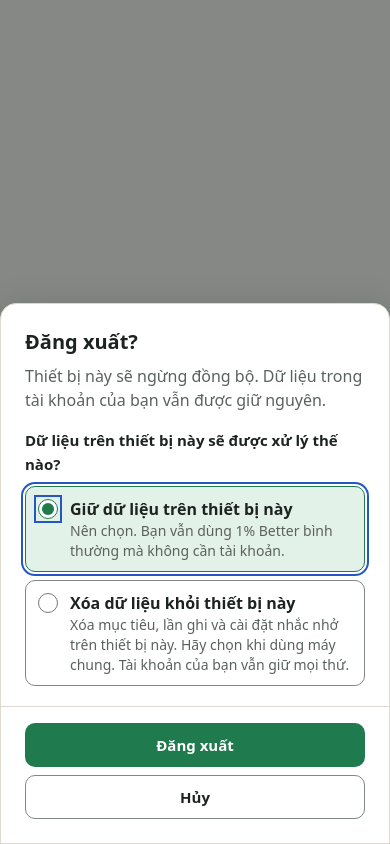
SignOutDialog — D4 (FR-41, M6-AC9, M6-AC11) › vi: no English leaks (Keep and Remove views)
Click the radio button labelled "Xóa dữ liệu khỏi thiết bị này" at [48, 603], box 38,593 -> 58,613
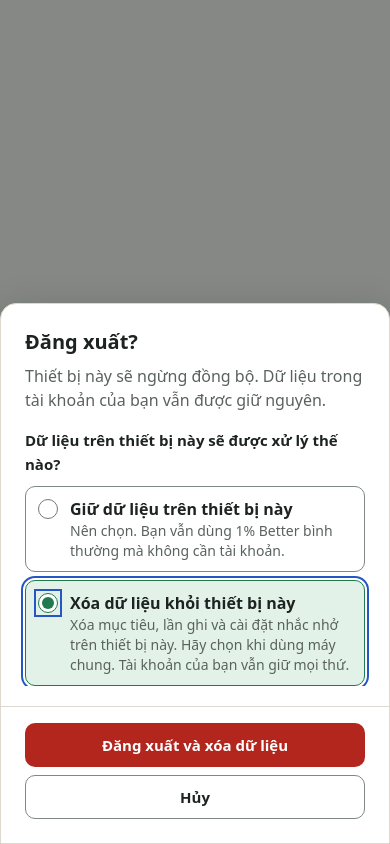
Now the button with test id "signout-confirm" reads "Đăng xuất và xóa dữ liệu", box 25,723 -> 365,767
